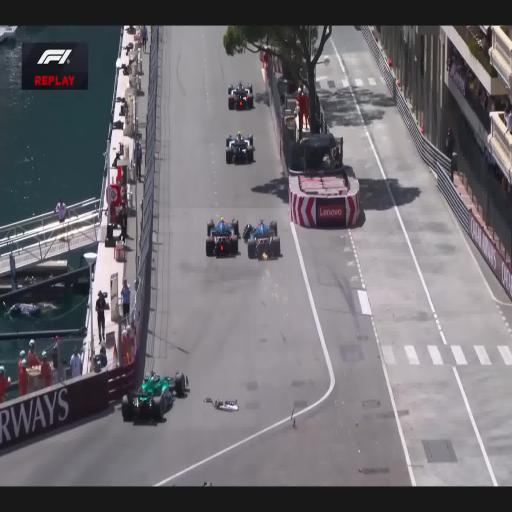f1_car: (121, 372, 188, 421), (243, 220, 281, 259), (205, 217, 239, 257), (225, 131, 254, 163), (228, 81, 253, 110)
